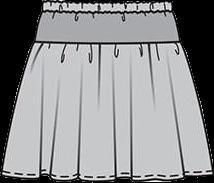Hemline: (1, 172, 213, 181)
Waistline: (34, 40, 180, 45), (41, 1, 171, 5), (42, 10, 172, 13)
